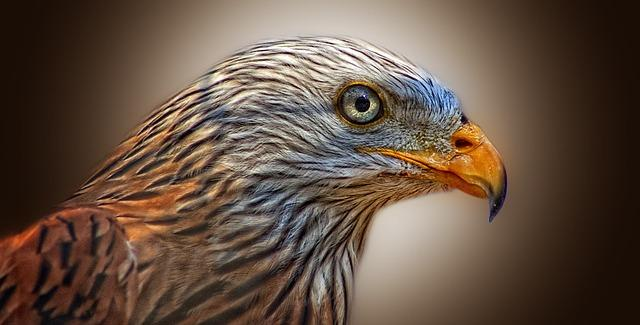bird: (0, 39, 506, 324)
